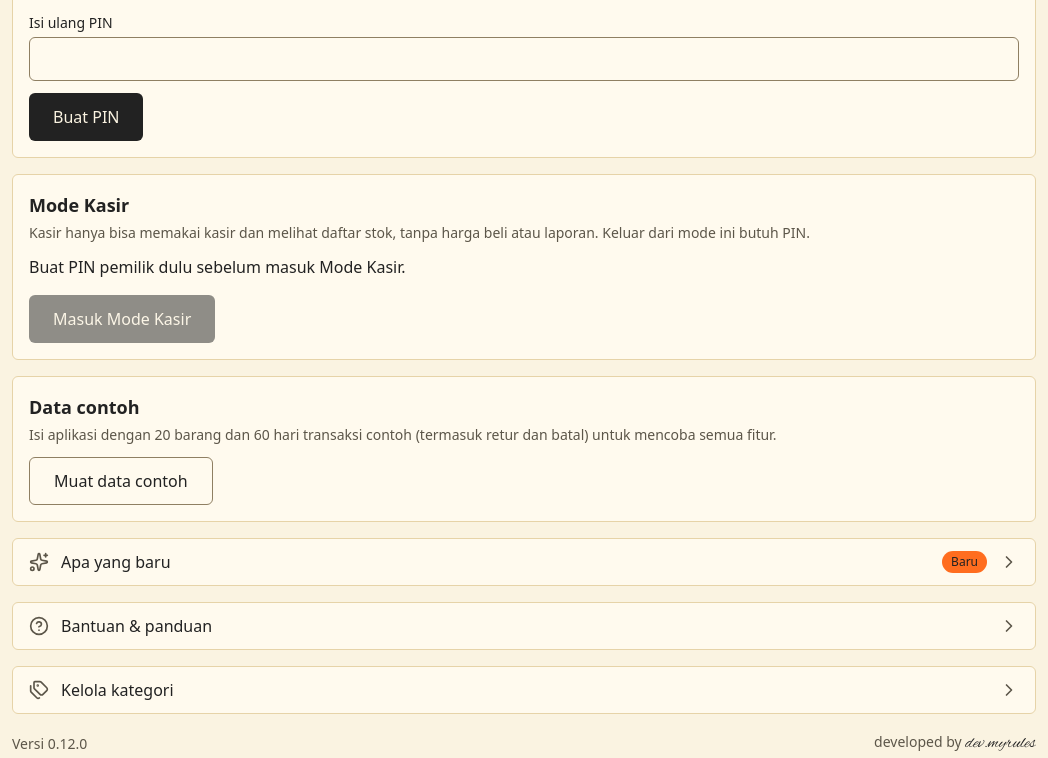
Scenario: UI data contoh › database kosong › Pengaturan: tombol aktif; setelah dimuat muncul banner dengan PIN 1234, dan tombol nonaktif
This screenshot has width=1048, height=758.
(page scrolled)
Click the button "Muat data contoh" at (121,480), box [29, 456, 213, 504]
(page scrolled)
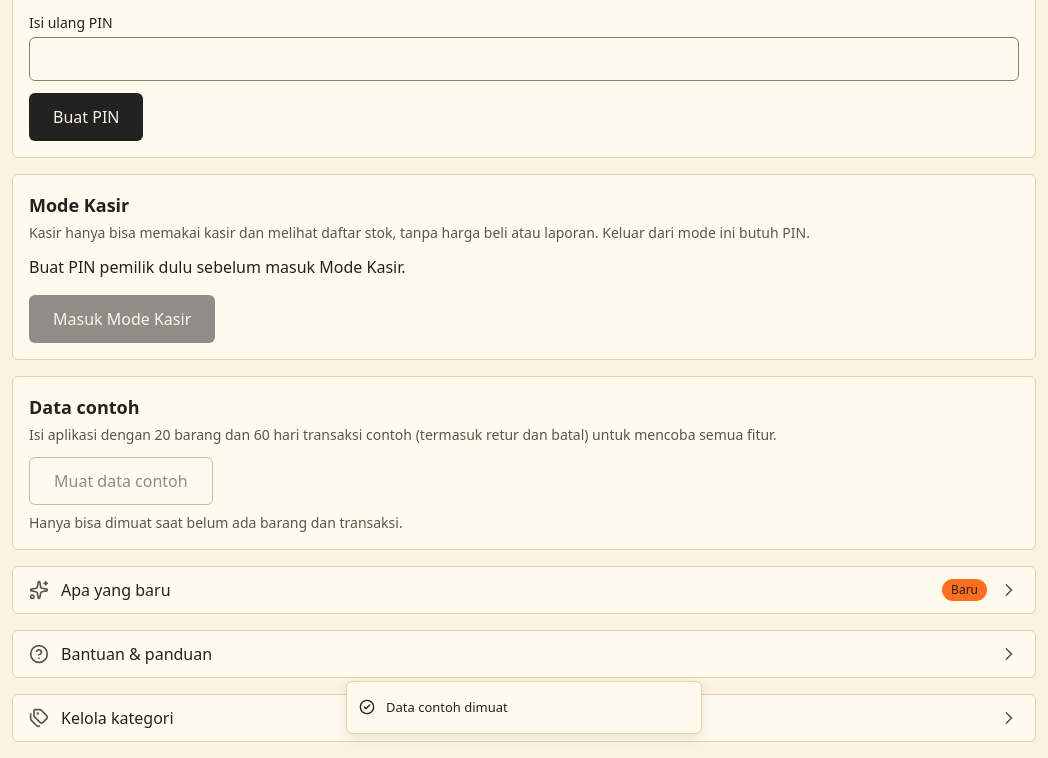
Result: the button "Muat data contoh" is disabled at [29, 456, 213, 504]
